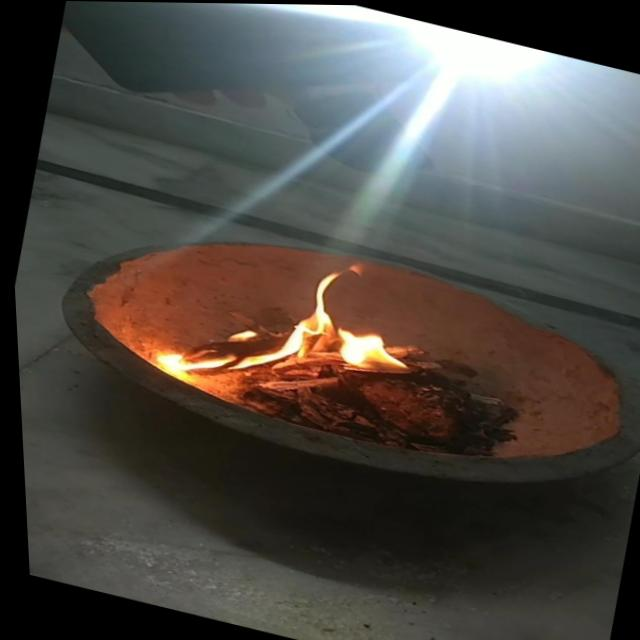fire: (152, 235, 430, 426)
